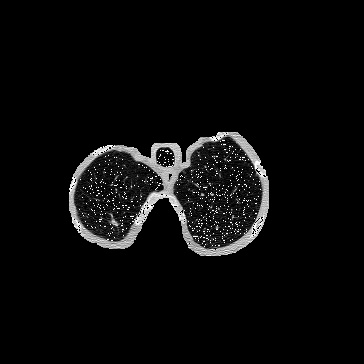PN: (110, 218, 118, 226)
